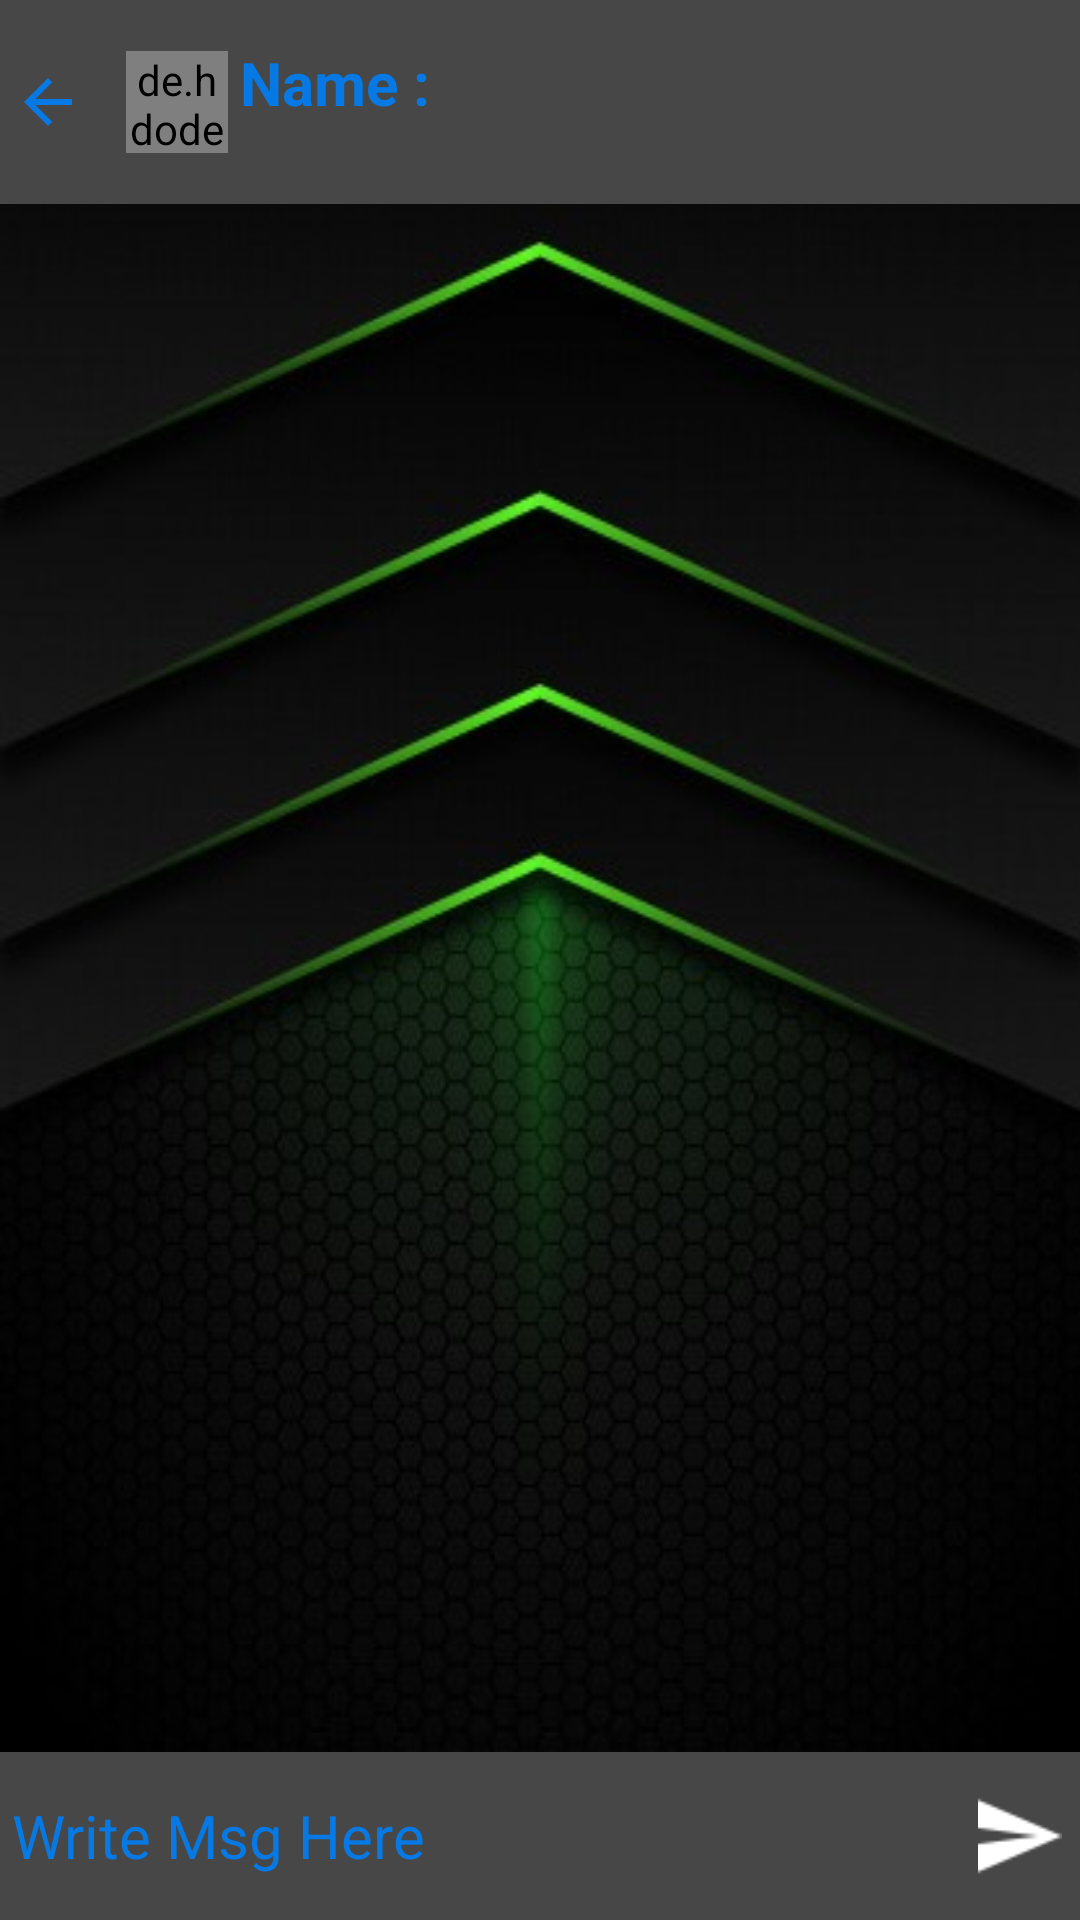

Named icons in this screenshot (1080x1920) and their bounding boxes, (x1, y1, x2, y2):
back: (24, 78, 72, 126)
send: (978, 1799, 1062, 1873)
